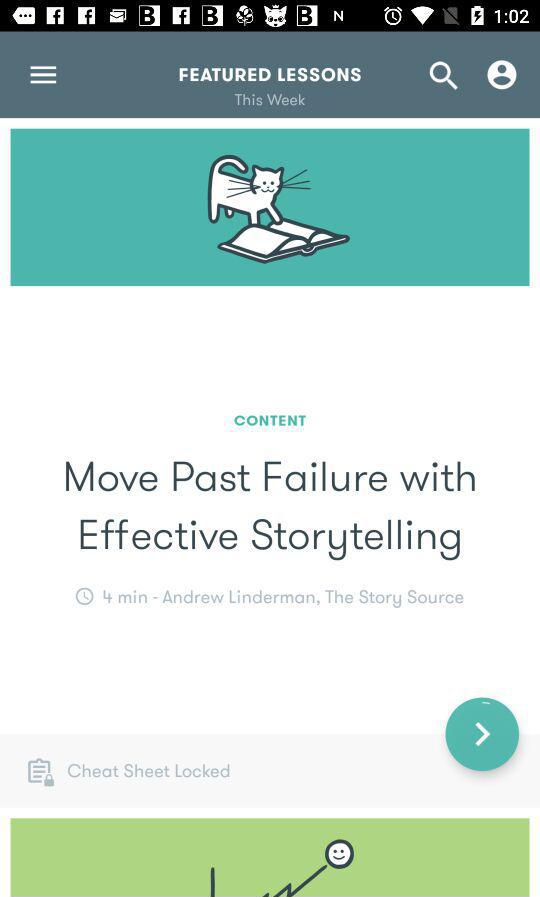Icon: (445, 697, 520, 772), (487, 60, 518, 91), (429, 62, 459, 92), (28, 758, 56, 788), (29, 65, 58, 86), (76, 588, 94, 606)
Image: (11, 129, 530, 286), (11, 818, 530, 897)
Text: (66, 460, 476, 561), (104, 589, 465, 609), (179, 68, 362, 84), (68, 762, 231, 778), (234, 94, 307, 107), (234, 415, 307, 427)
Toolbar: (1, 33, 540, 119)
UpperTaskBar: (1, 1, 540, 33)
